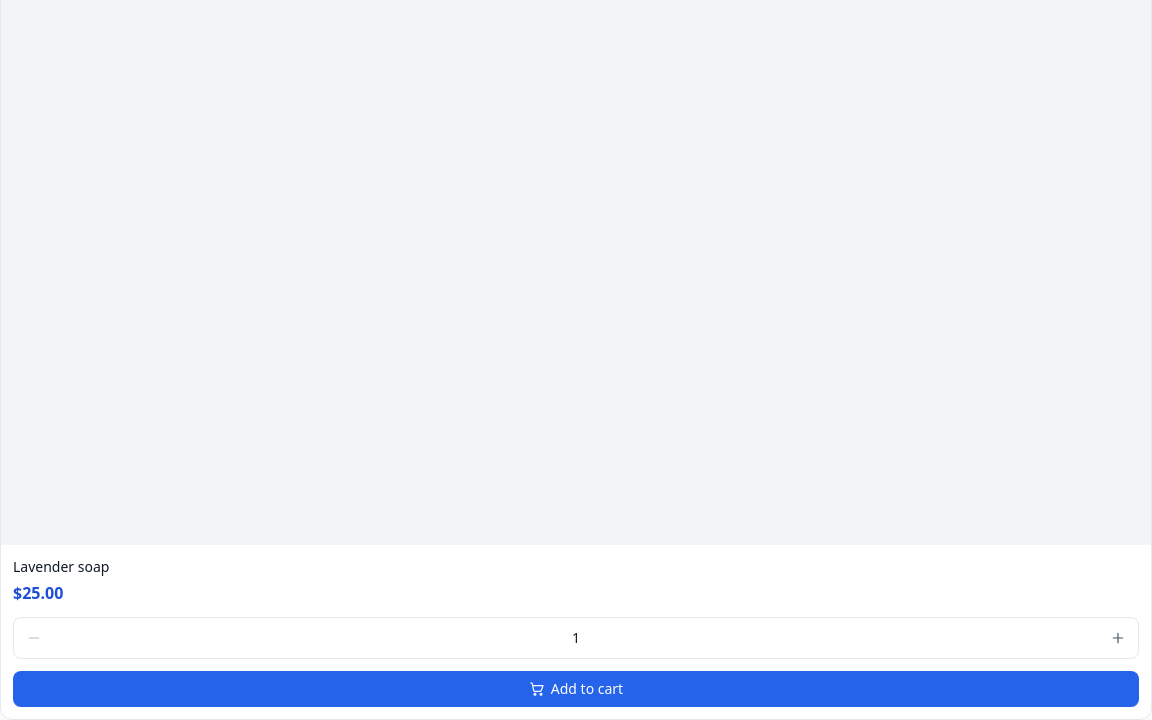
Test: adding to the cart › resets its own stepper after adding, so the next add starts from one
(page scrolled)
Step 1. Click the button named "increase quantity" → (1118, 638), box 1102,622 -> 1134,654
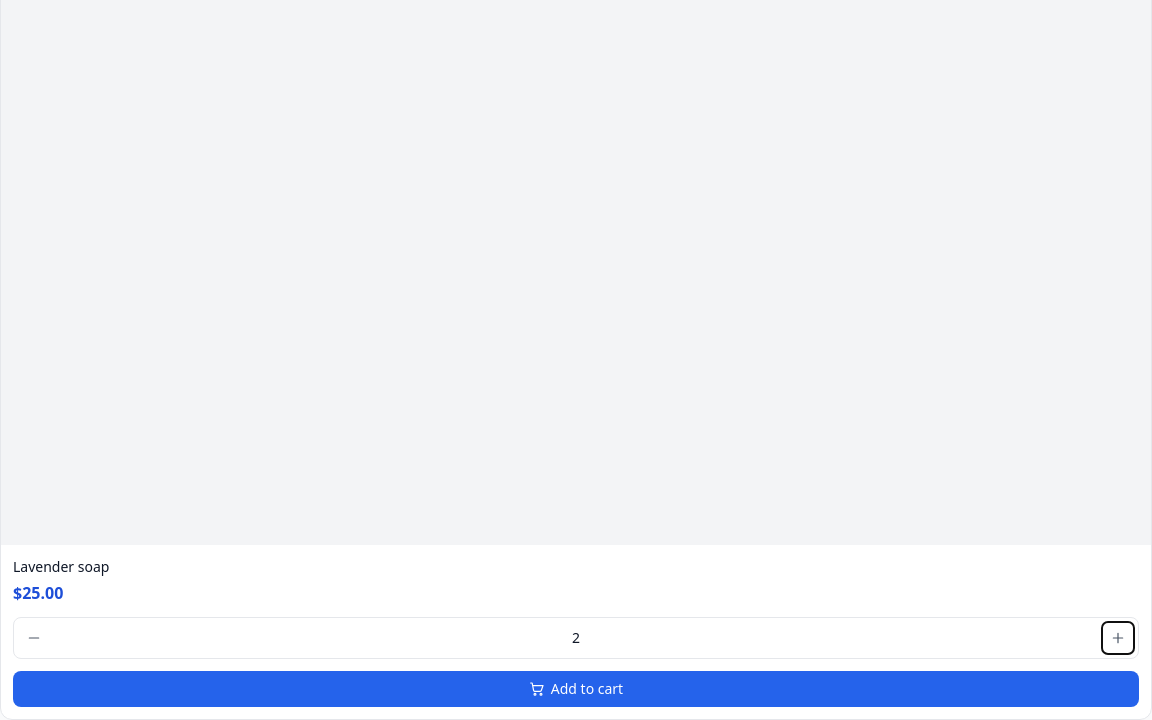
Step 2. Click the button "Add to cart" → (576, 689), box 13,671 -> 1139,707
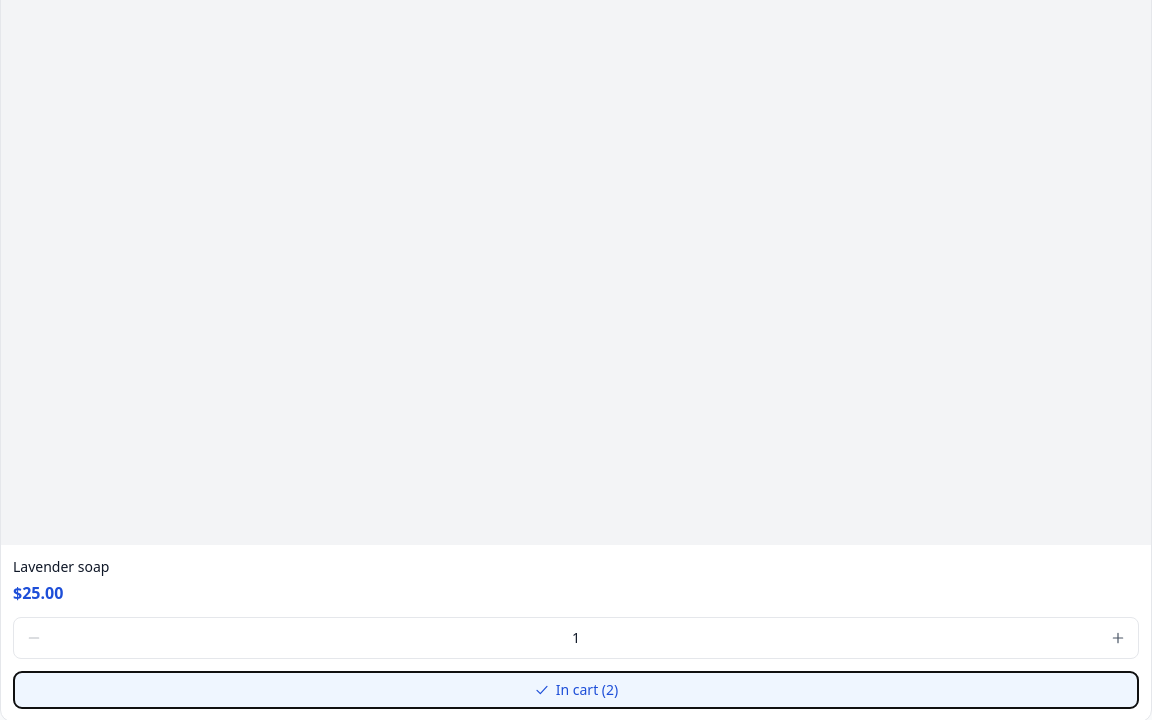
Expected: the text "1" is shown, 572,628 -> 580,647
